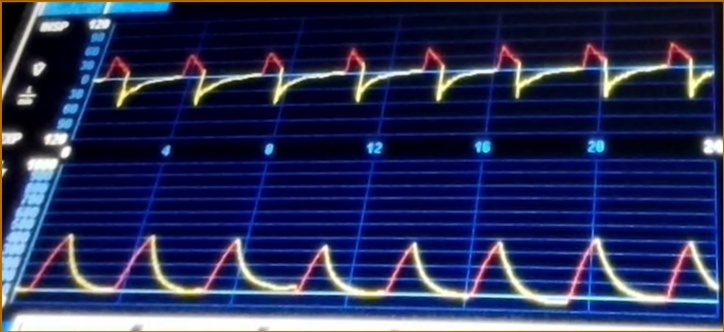Accumulation Flow: (107, 36, 714, 135)
Volume: (36, 225, 716, 311)
